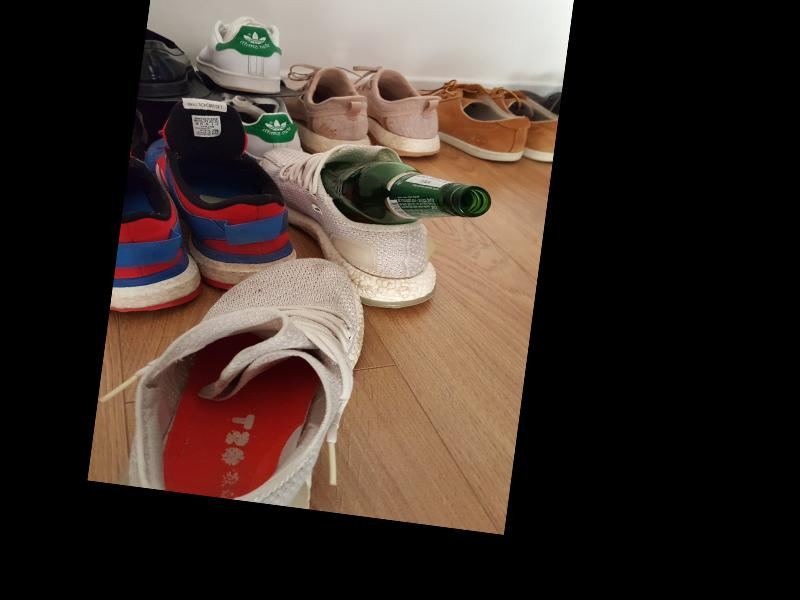Beer: (315, 154, 494, 238)
